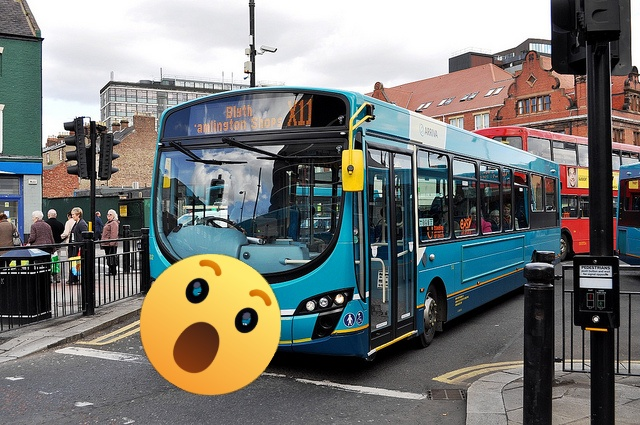wow: (140, 254, 281, 395)
